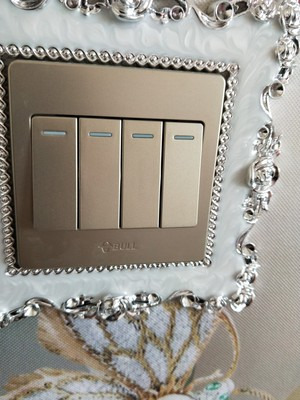switch: (27, 108, 84, 233), (116, 115, 168, 234), (72, 110, 123, 231), (159, 116, 201, 234)
